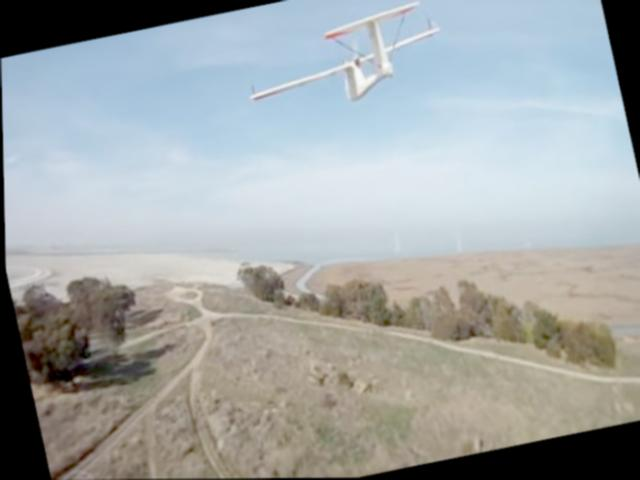uav: (225, 0, 457, 135)
